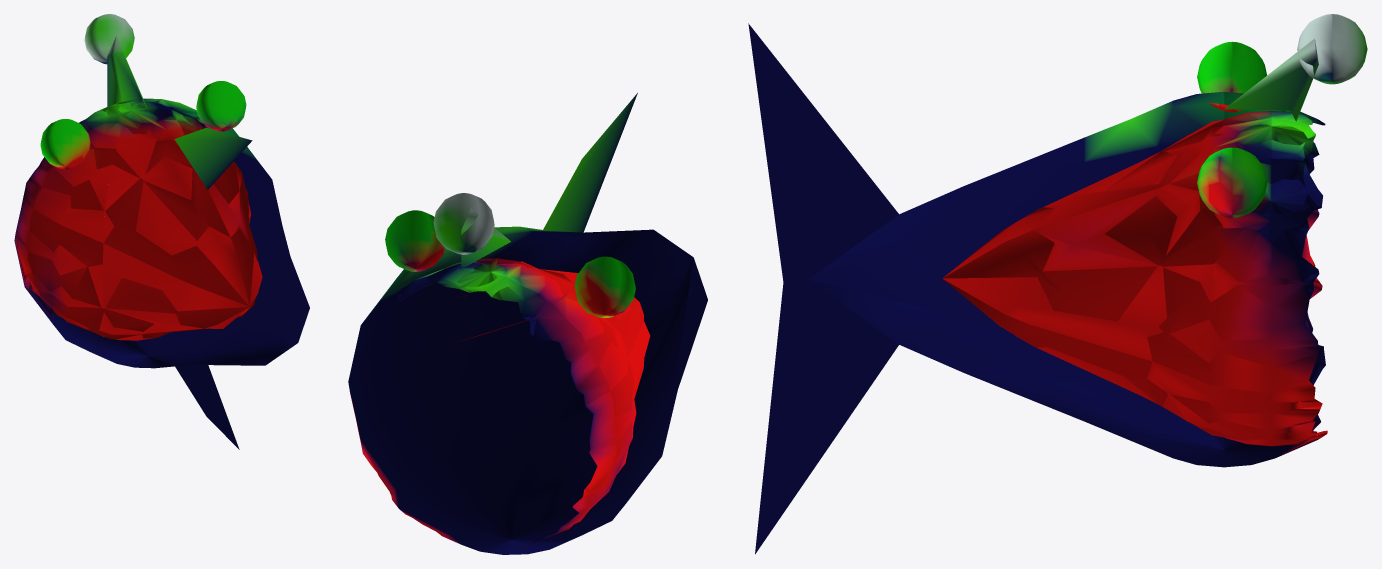
The model's file is caverno.glb.
3 views of the same model, side by side, from view 1: azimuth 30°, elevation 25°; view 2: azimuth 150°, elevation 25°; view 3: azimuth 270°, elevation 25° (orthographic). The views are drawn at different scales.
Visible parts, largest first — view 1: Caverno; view 2: Caverno; view 3: Caverno.
Boxes of the visible parts, <box> form: Caverno: <box>14,14,309,449</box>; Caverno: <box>348,93,707,554</box>; Caverno: <box>748,14,1367,554</box>.
Size of the model in its own units: 0.6801 by 1.07 by 1.12.
